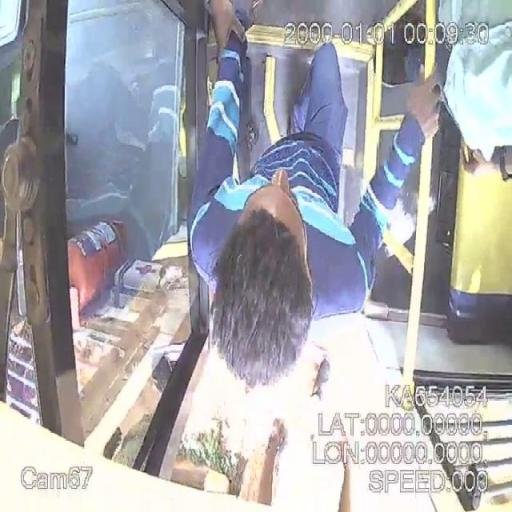persona: (186, 1, 448, 390)
